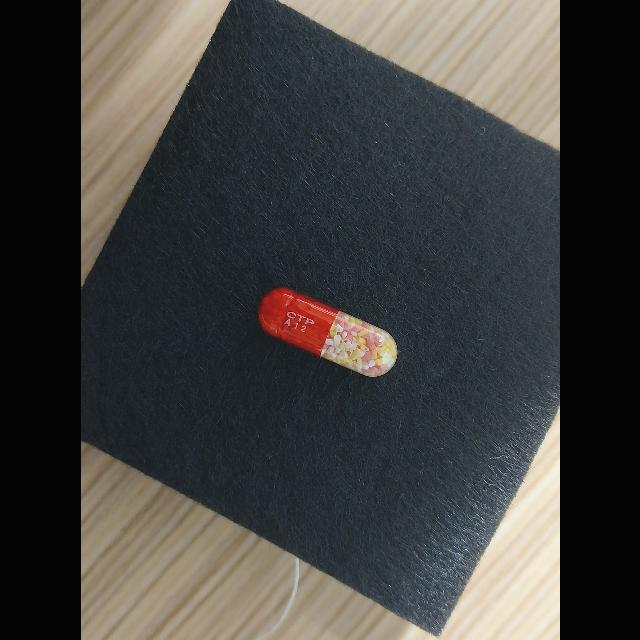Intact Capsule: (257, 287, 397, 377)
